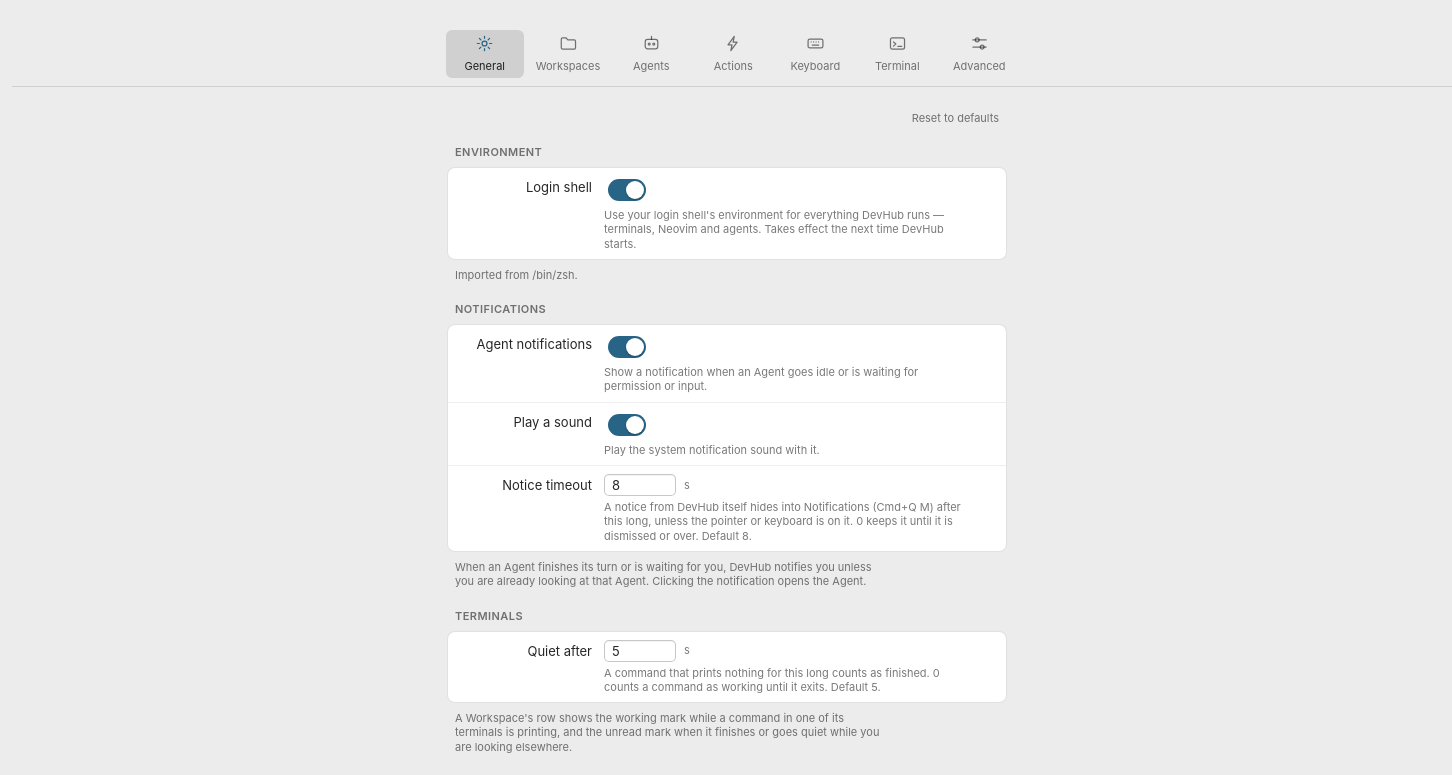
Test: the actions an agent is sent › does not offer the identifier, and never changes one
Click the tab "Actions" at (733, 54), box top-left (694, 30), bottom-right (772, 78)
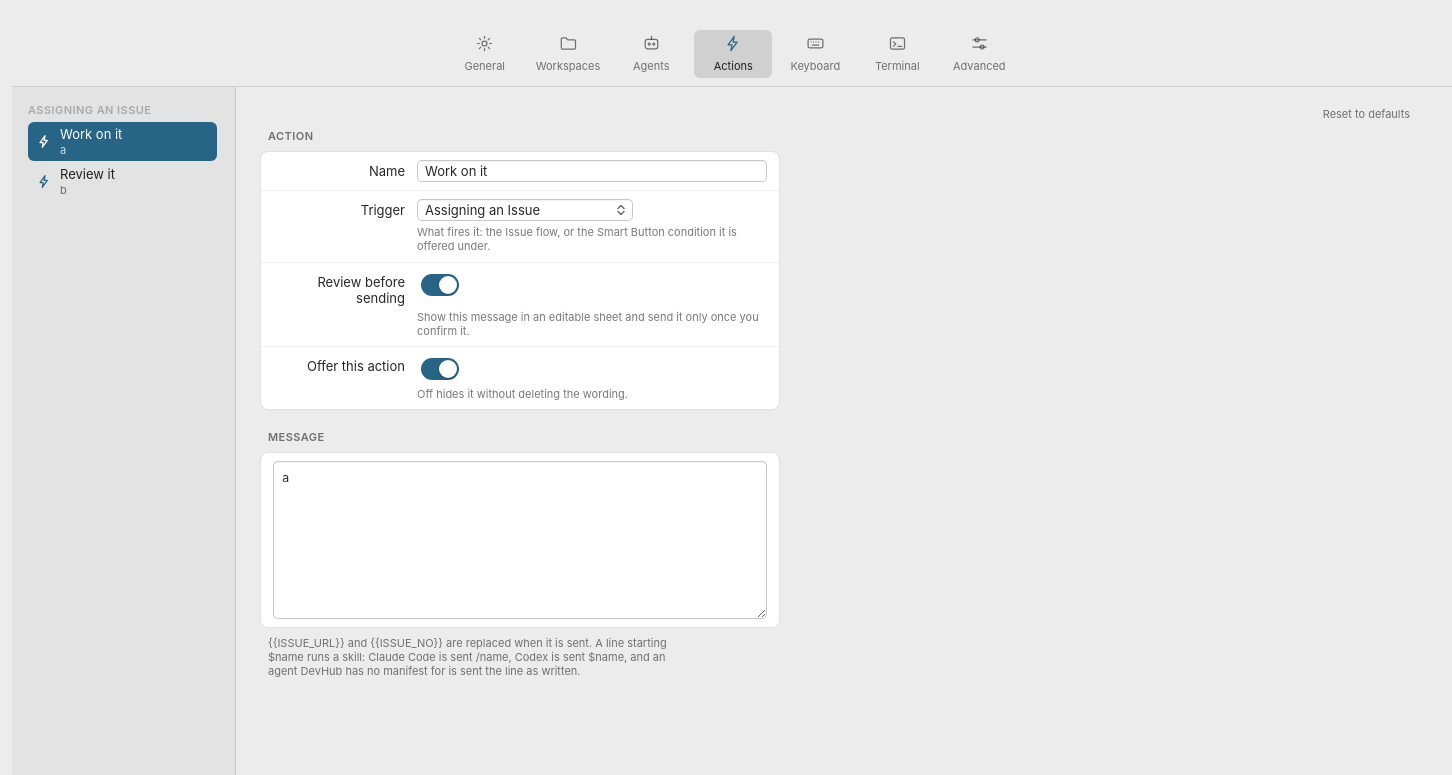
Replace the text in the field named "Agent action name" with "Review it too" at (592, 171), box top-left (417, 160), bottom-right (767, 182)
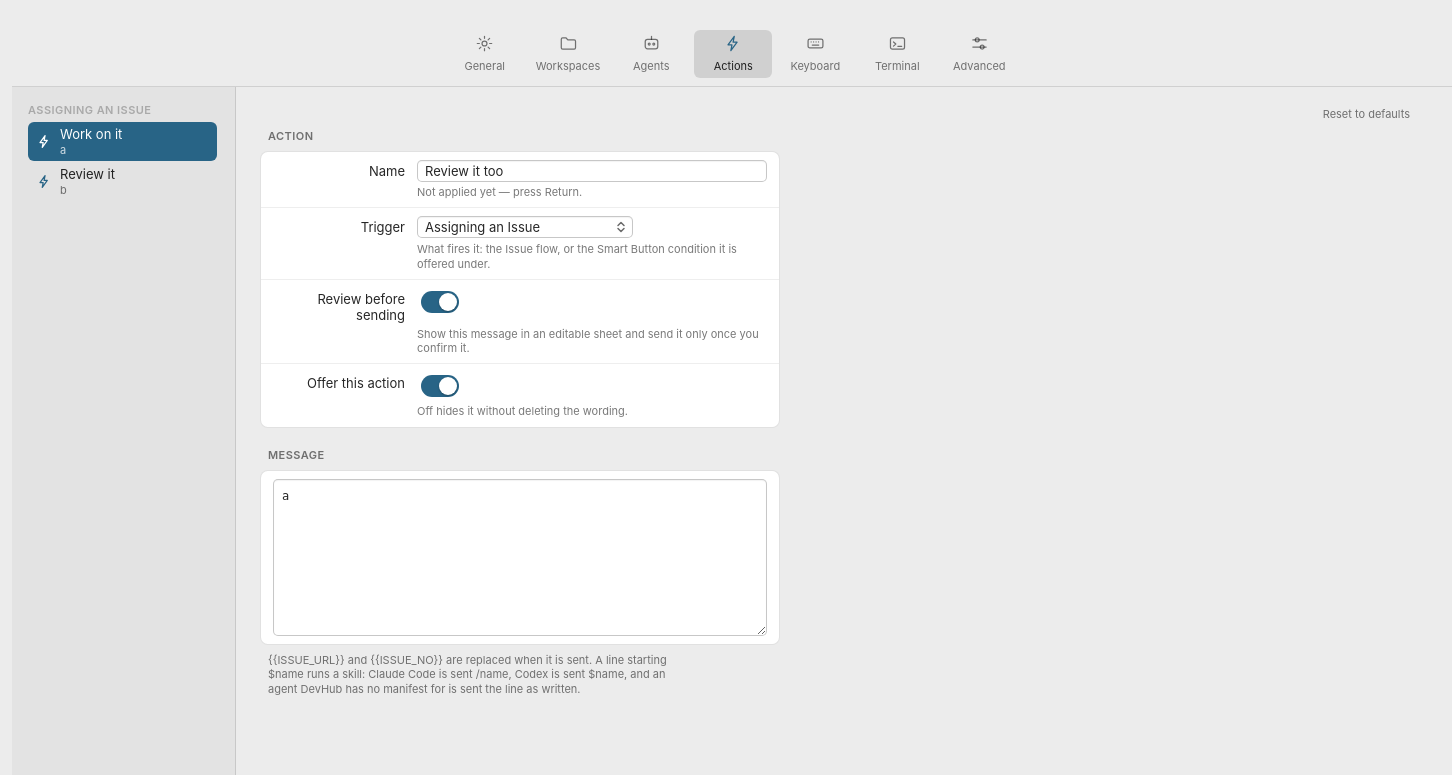
Leave the field named "Agent action name", box top-left (417, 160), bottom-right (767, 182)
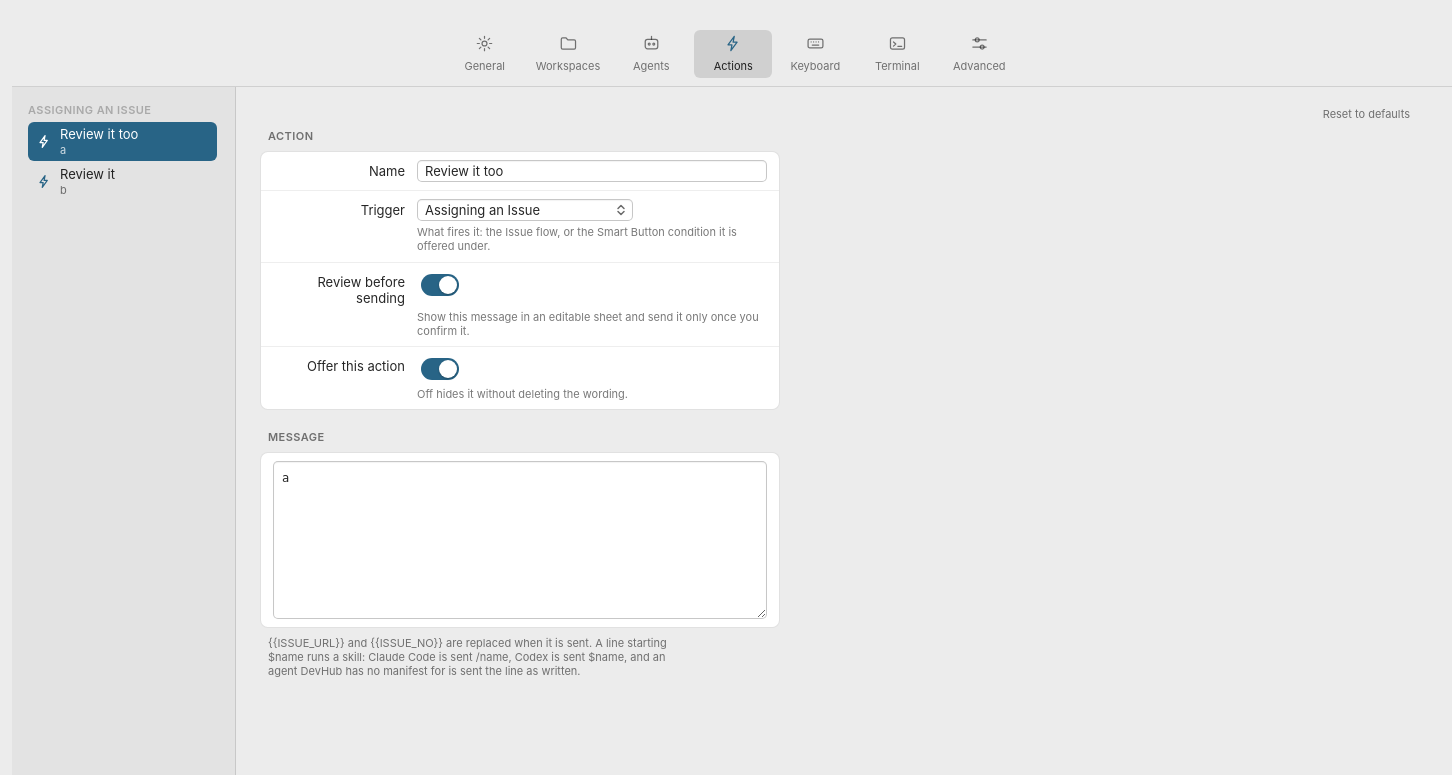
expect the text "Review it too" is shown: met, box top-left (60, 126), bottom-right (138, 142)
